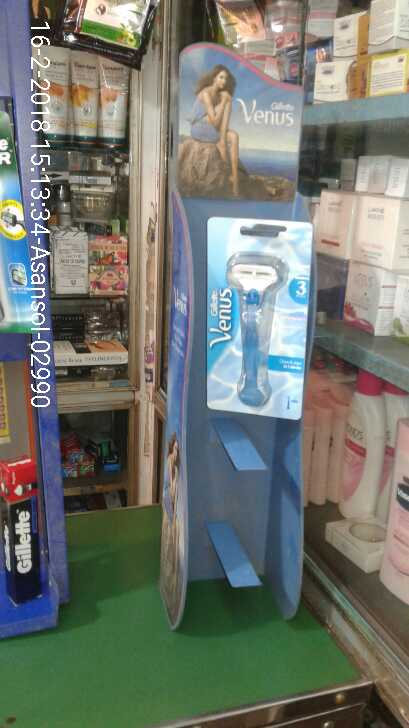beauty: (206, 209, 307, 423), (4, 456, 50, 609)
